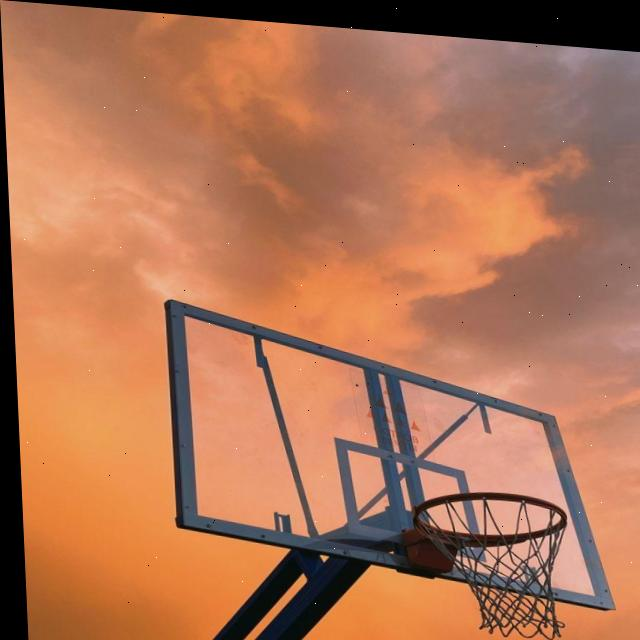hoop: (407, 484, 608, 640)
